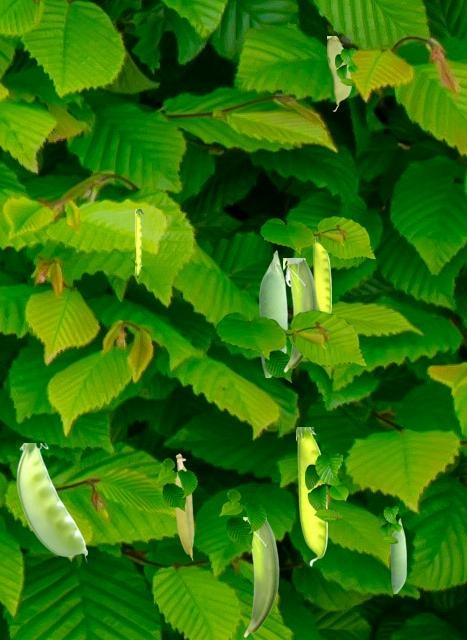pea: (16, 443, 86, 562), (243, 517, 279, 636), (296, 427, 326, 565), (283, 258, 317, 371), (259, 250, 286, 376), (174, 453, 193, 559), (327, 36, 350, 110), (312, 239, 330, 312), (390, 518, 405, 592), (135, 209, 144, 277)
